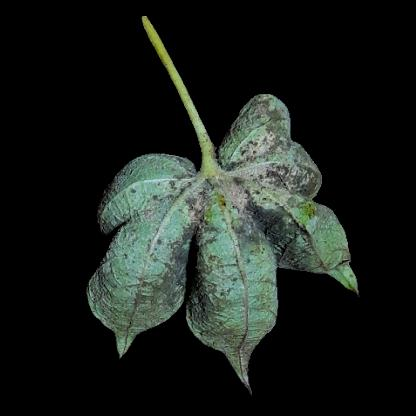curl_stage2: (229, 275, 261, 339), (120, 197, 155, 251), (104, 258, 132, 310), (127, 161, 165, 193), (316, 227, 348, 263)
sooty: (164, 162, 235, 240), (243, 101, 291, 155), (190, 265, 226, 337), (246, 203, 295, 249), (263, 156, 316, 195), (150, 247, 182, 307)
